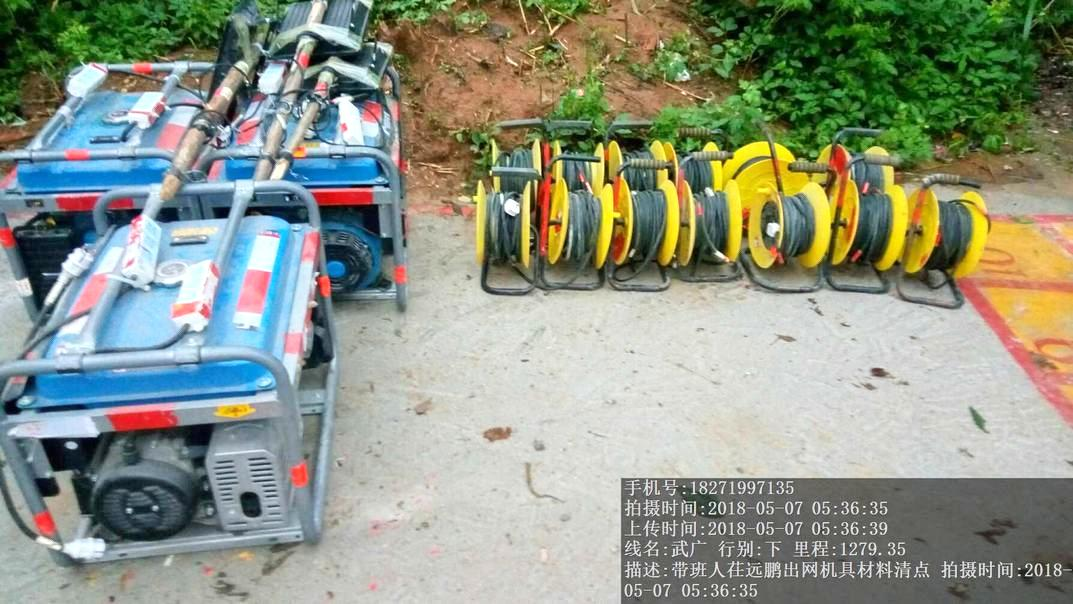DJ: (7, 178, 356, 575), (13, 50, 202, 210)
DX: (901, 179, 993, 296), (463, 171, 545, 301), (742, 179, 837, 283), (547, 169, 621, 283), (675, 175, 751, 279), (616, 178, 680, 287), (843, 180, 899, 285)
